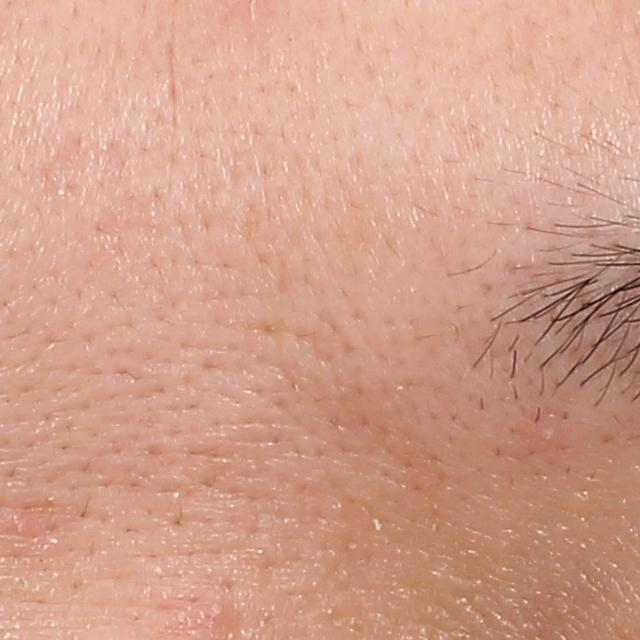pustule: (534, 425, 561, 447)
